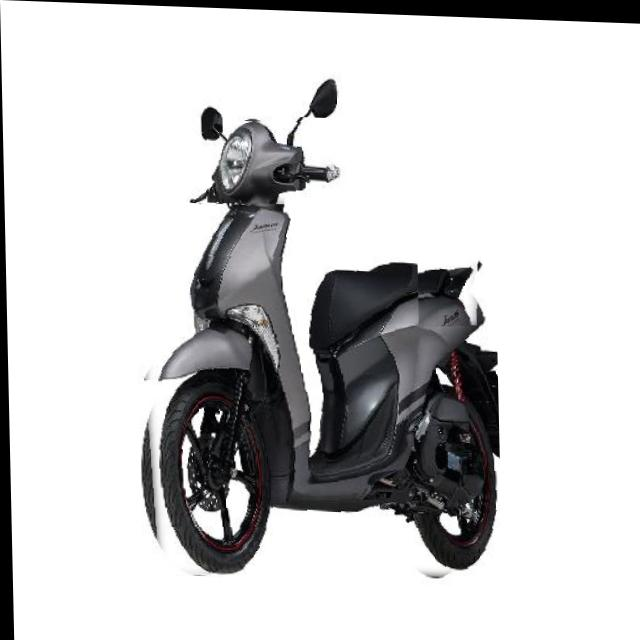All: (125, 110, 500, 583)
Head: (184, 118, 336, 206)
Tail: (416, 250, 479, 326)
